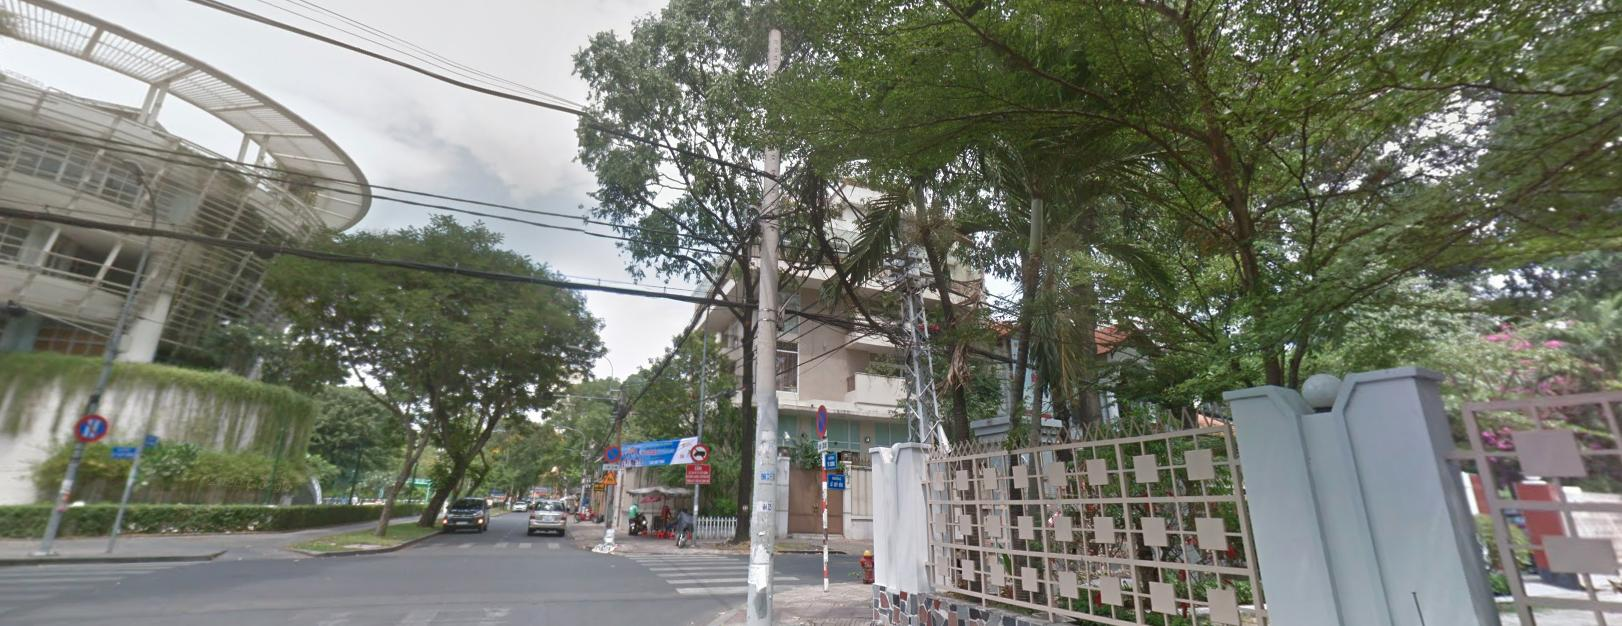Cam con lai: (690, 442, 709, 461)
Cam dung va do: (73, 413, 107, 440), (815, 403, 827, 435), (603, 444, 620, 461)
Nguy hiem: (601, 469, 617, 484)
